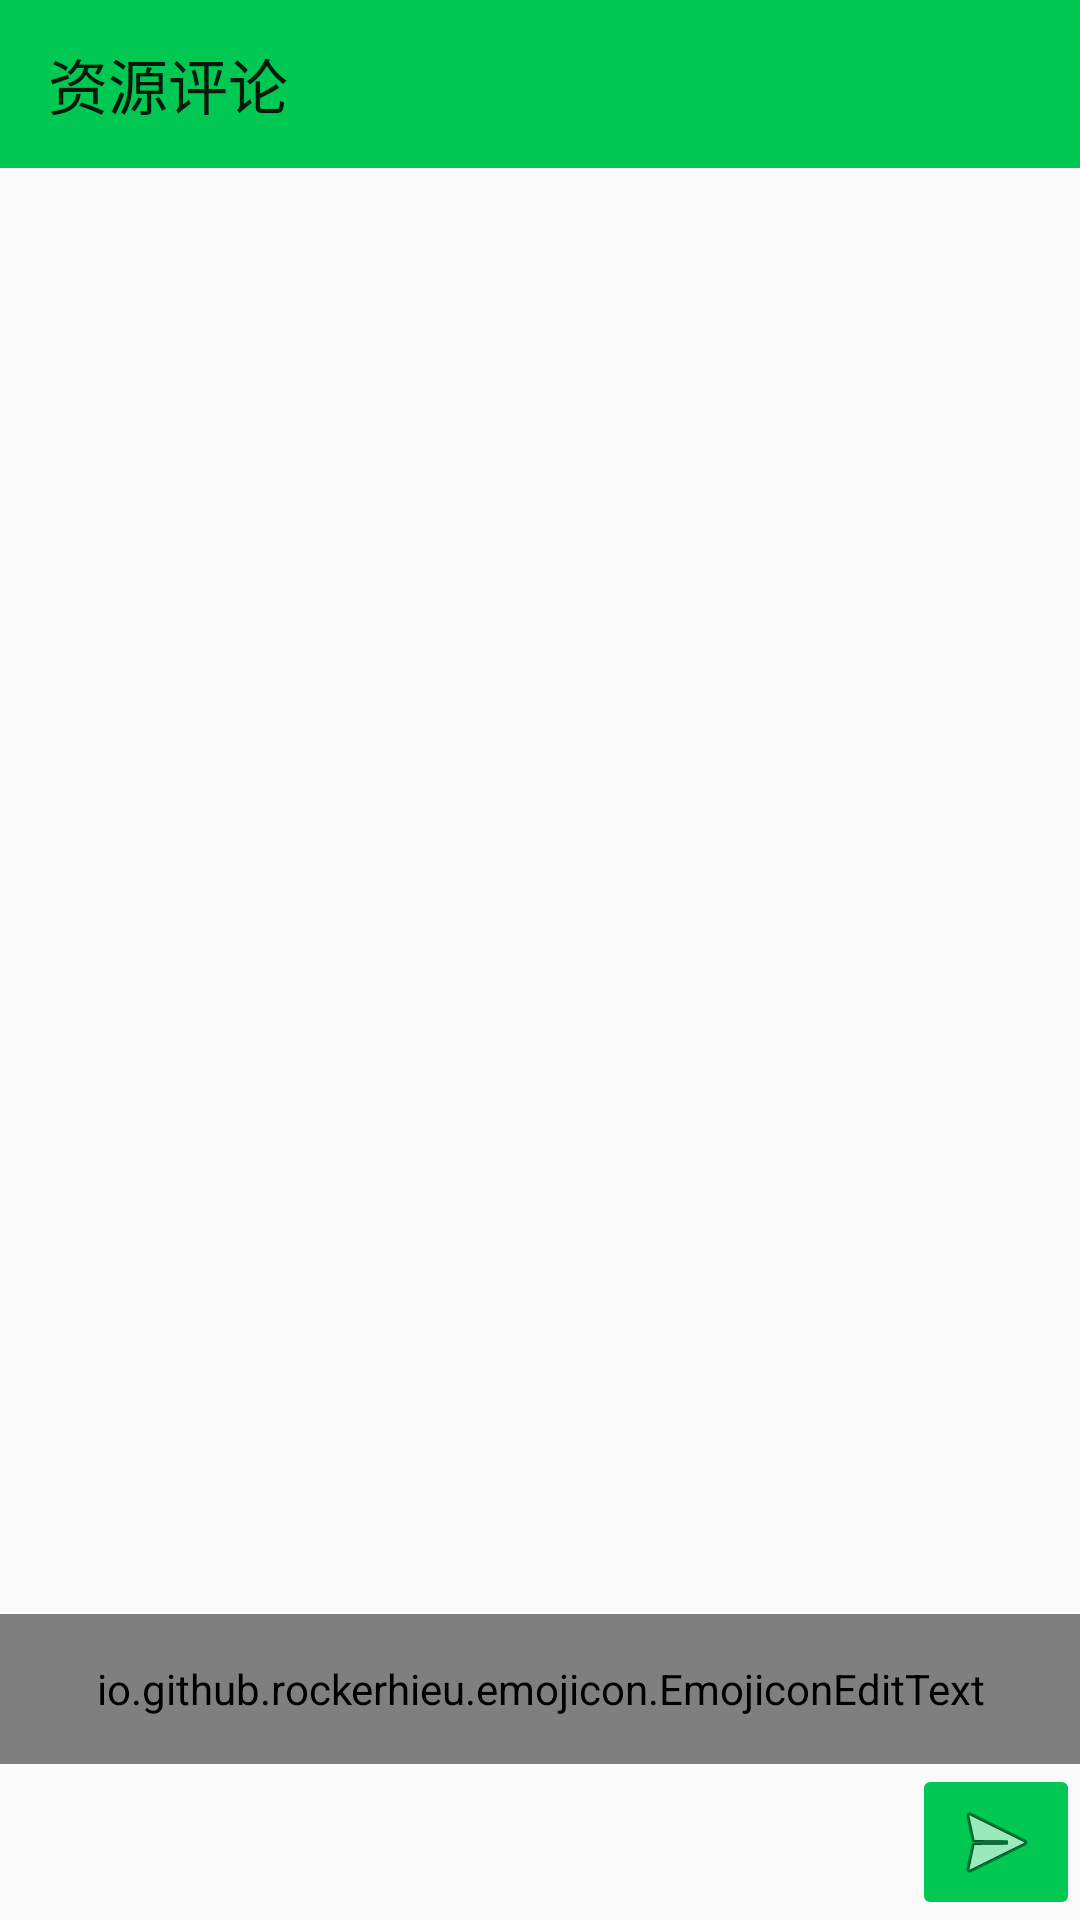

Screen size 1080 x 1920. Icon name, then its box in pixels as (x1, y1, x2, y2):
send: (924, 1782, 1068, 1902)
